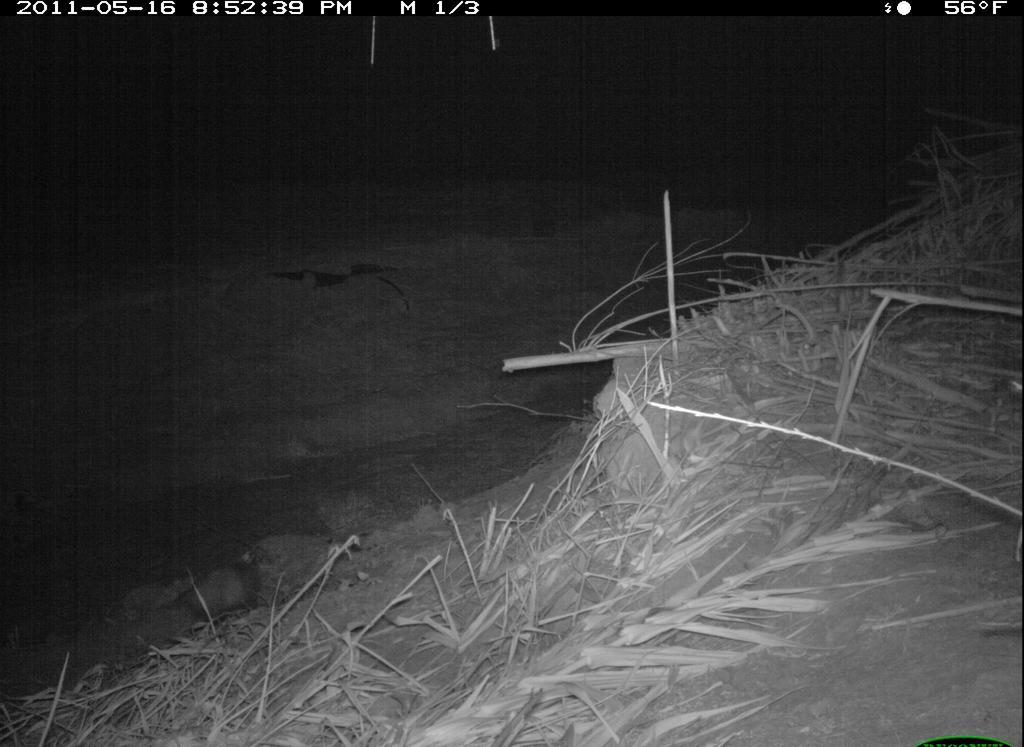opossum: (141, 542, 274, 628)
